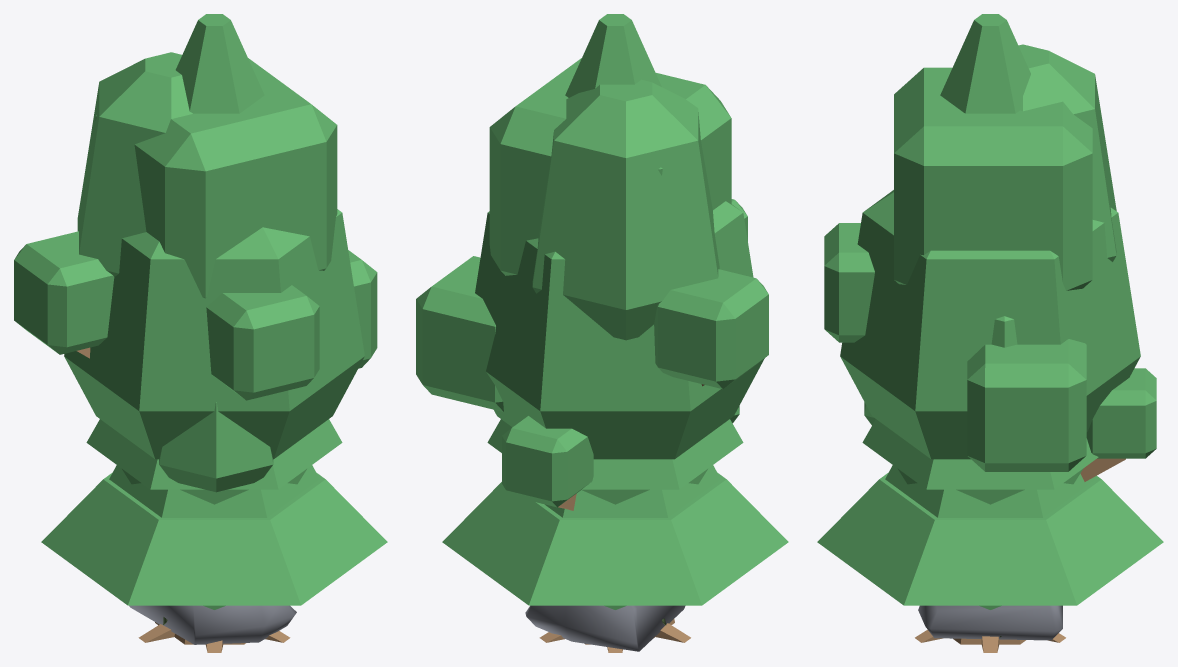
Rendered from nature.glb.
3 renders of one model, left to right at view 1: azimuth 30°, elevation 25°; view 2: azimuth 150°, elevation 25°; view 3: azimuth 270°, elevation 25°, orthographic.
Parts seen in each view (by area): view 1: oak.a, pine.b, oak.b, birch.a, pine.a, rock.b; view 2: oak.a, pine.b, birch.a, oak.b, rock.b, pine.a; view 3: oak.a, pine.b, oak.b, birch.a, pine.a, rock.b.
Part boxes in pixels (x1,y1,x2,y2): oak.a: (14,58,377,400); pine.b: (41,14,387,605); oak.b: (64,209,364,652); birch.a: (77,52,273,492); pine.a: (109,465,319,644); rock.b: (129,605,296,644); oak.a: (416,58,768,510); pine.b: (442,14,788,605); birch.a: (532,79,739,423); oak.b: (475,201,764,652); rock.b: (525,605,685,651); pine.a: (545,465,720,644); oak.a: (824,67,1156,481); pine.b: (817,14,1163,605); oak.b: (840,190,1140,652); birch.a: (864,44,1116,425); pine.a: (885,465,1095,644); rock.b: (918,605,1062,640).
Bounding box in the file's own units: 6.68 × 12 × 6.26.
